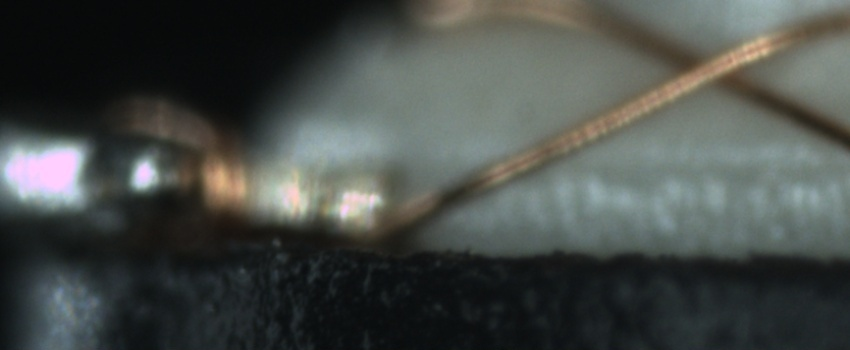CL: (657, 27, 761, 99)
DL: (549, 135, 845, 201)
TE: (97, 81, 256, 249)
